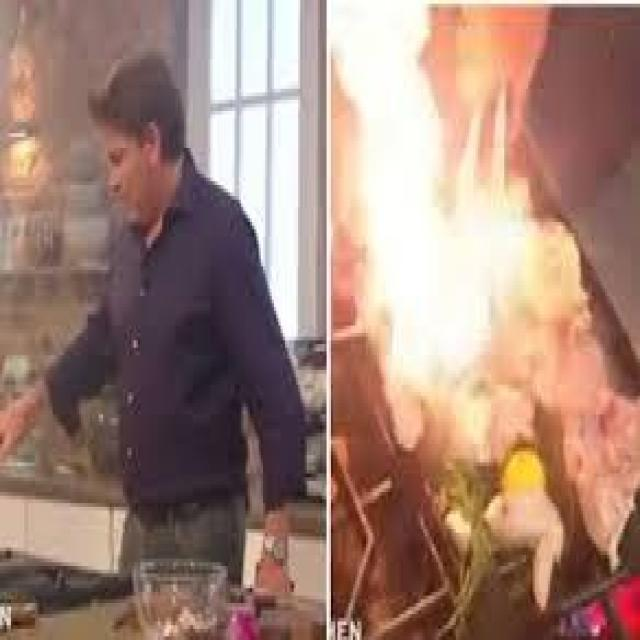Fire: (384, 170, 511, 346)
Smoke: (320, 9, 444, 180)
